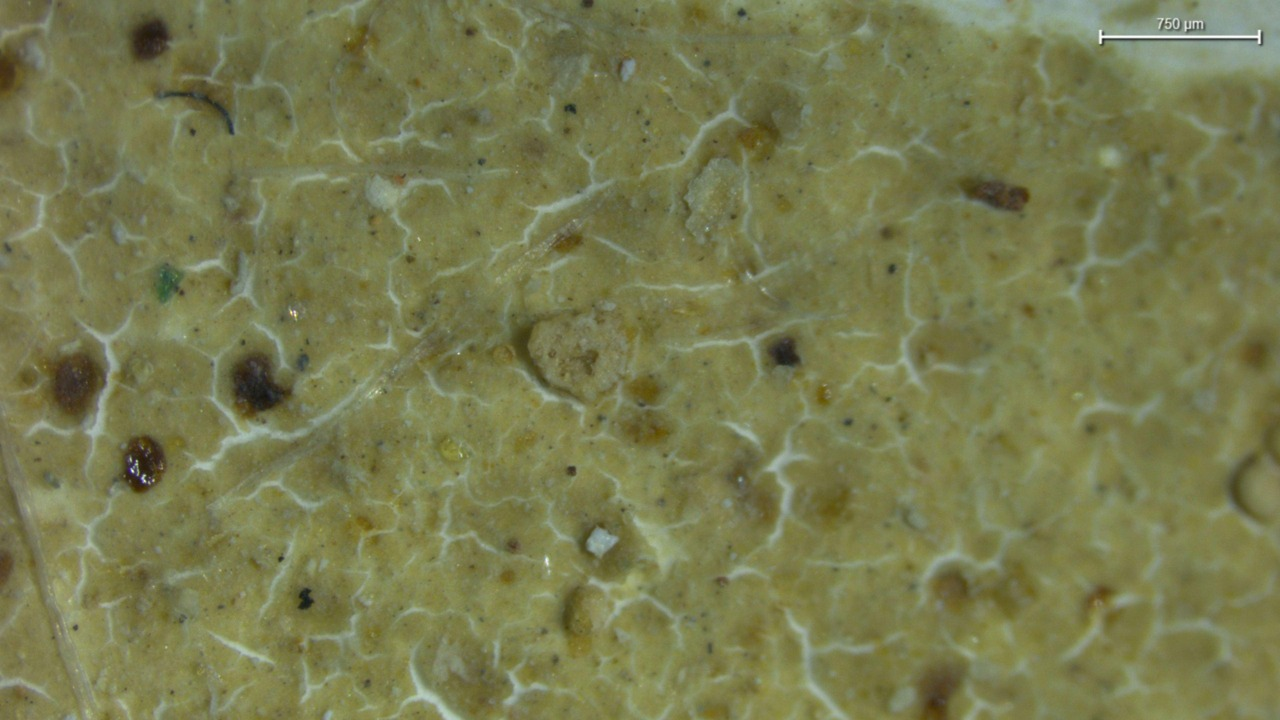microplastic_fragment: (528, 308, 632, 410), (688, 158, 750, 258), (585, 531, 617, 558)
